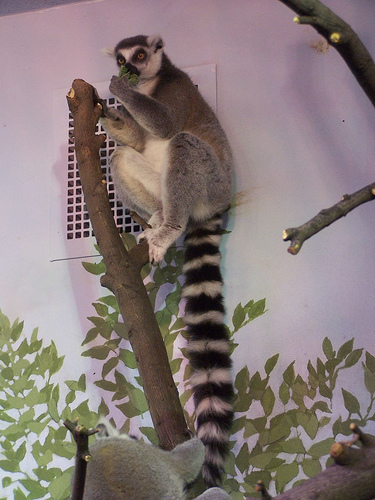cat: (97, 30, 237, 488)
